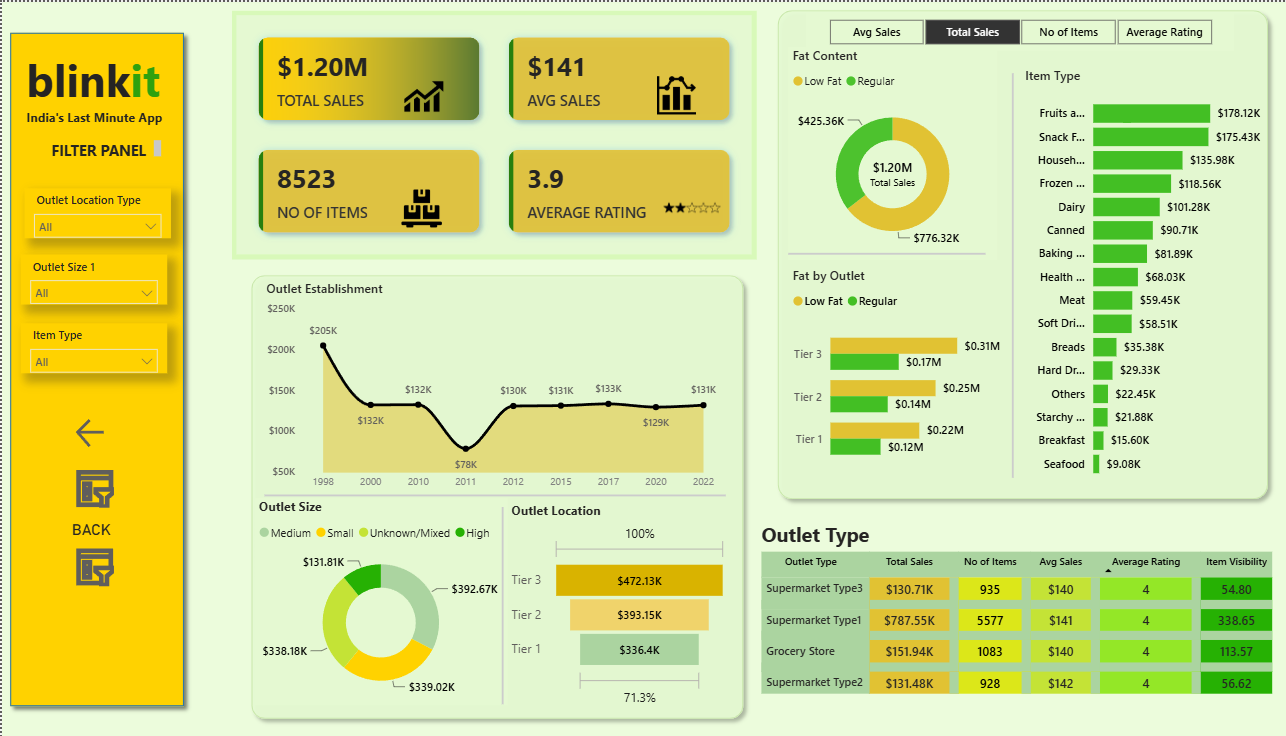

What the dashboard file says about the page in this screenshot:
{"tool":"powerbi","page":{"name":"Page 1","canvas":[1400,800],"ordinal":0},"visuals":[{"type":"shape","box":[0,25,206.7,750],"z":0},{"type":"cardVisual","fields":{"Data":["BlinkIT Grocery Data.Total Sales","BlinkIT Grocery Data.Avg Sales","BlinkIT Grocery Data.No of Items","BlinkIT Grocery Data.Average Rating"]},"box":[250,10,570,270],"z":1000},{"type":"textbox","box":[21.7,46.7,185,100],"z":2000},{"type":"textbox","box":[21.7,111.7,170,35],"z":3000},{"type":"image","box":[430,82,58,42],"z":4000},{"type":"image","box":[712,190,76,66],"z":5000},{"type":"image","box":[402,202,108,44],"z":6000},{"type":"image","box":[712,78,42,48],"z":7000},{"type":"shape","box":[834.5,0,550.8,549.3],"z":8000},{"type":"donutChart","title":"Fat Content","fields":{"Y":["BlinkIT Grocery Data.Total Sales"],"Category":["BlinkIT Grocery Data.Item Fat Content"]},"box":[854.3,48.6,227.1,231.4],"z":9000},{"type":"cardVisual","fields":{"Data":["BlinkIT Grocery Data.Total Sales"]},"box":[907.1,151.4,121.4,71.4],"z":10000},{"type":"slicer","fields":{"Values":["metrics.metrics"]},"box":[874.3,12.8,465.3,40.5],"z":11000},{"type":"clusteredBarChart","title":"Fat by Outlet ","fields":{"Y":["BlinkIT Grocery Data.Total Sales"],"Category":["BlinkIT Grocery Data.Outlet Location Type"],"Series":["BlinkIT Grocery Data.Item Fat Content"]},"box":[854,288.2,235.6,229.6],"z":12000},{"type":"shape","box":[854,267.2,214.6,12],"z":13000},{"type":"shape","box":[1089.6,78,18,439.8],"z":14000},{"type":"barChart","title":"Item Type","fields":{"Y":["BlinkIT Grocery Data.Total Sales"],"Category":["BlinkIT Grocery Data.Item Type"]},"box":[1107.1,70,265.7,457.1],"z":15000},{"type":"shape","box":[262.5,287.5,552.5,500],"z":16000},{"type":"lineChart","title":"Outlet Establishment","fields":{"Y":["BlinkIT Grocery Data.Total Sales"],"Category":["BlinkIT Grocery Data.Outlet Establishment Year"]},"box":[282.9,301.4,505.7,237.1],"z":17000},{"type":"shape","box":[285.7,530,501.4,12.9],"z":18000},{"type":"donutChart","title":"Outlet Size","fields":{"Y":["Sum(BlinkIT Grocery Data.Sales)"],"Category":["BlinkIT Grocery Data.Outlet Size1"]},"box":[275,540,275,225],"z":19000},{"type":"funnel","title":"Outlet Location ","fields":{"Category":["BlinkIT Grocery Data.Outlet Location Type"],"Y":["Sum(BlinkIT Grocery Data.Sales)"]},"box":[549.3,543.3,244.6,228.1],"z":20000},{"type":"shape","box":[706.9,640.9,501.3,12],"z":20001},{"type":"shape","box":[537.3,549.3,15,214.6],"z":20002},{"type":"pivotTable","title":"Outlet Type","fields":{"Rows":["BlinkIT Grocery Data.Outlet Type"],"Values":["BlinkIT Grocery Data.Total Sales","BlinkIT Grocery Data.No of Items","BlinkIT Grocery Data.Avg Sales","BlinkIT Grocery Data.Average Rating","Sum(BlinkIT Grocery Data.Item Visibility)"]},"box":[821,564.3,579.3,223.6],"z":20003},{"type":"slicer","fields":{"Values":["BlinkIT Grocery Data.Outlet Location Type"]},"box":[24,202.6,159.1,54],"z":20004},{"type":"slicer","fields":{"Values":["BlinkIT Grocery Data.Outlet Size"]},"box":[21,274.7,159.1,54],"z":20007},{"type":"slicer","fields":{"Values":["BlinkIT Grocery Data.Item Type"]},"box":[21,349.7,159.1,54],"z":20008},{"type":"textbox","box":[38.9,145.2,138.8,29.5],"z":20010},{"type":"actionButton","box":[76.5,504.3,54,49.5],"z":20012},{"type":"actionButton","title":"BACK","box":[76.5,564.3,84,75],"z":20013},{"type":"actionButton","box":[76.5,448.8,100.6,40.5],"z":20014}]}

Visuals, with their boxes in screenshot pixels (x1, y1, x2, y2), scaled from the page's 1400x800 canvas onto the 1286x736 screenshot:
shape: [left=0, top=23, right=190, bottom=713]
cardVisual - BlinkIT Grocery Data.Total Sales x BlinkIT Grocery Data.Avg Sales: [left=230, top=9, right=753, bottom=258]
textbox: [left=20, top=43, right=190, bottom=135]
textbox: [left=20, top=103, right=176, bottom=135]
image: [left=395, top=75, right=448, bottom=114]
image: [left=654, top=175, right=724, bottom=236]
image: [left=369, top=186, right=468, bottom=226]
image: [left=654, top=72, right=693, bottom=116]
shape: [left=767, top=0, right=1272, bottom=505]
"Fat Content" donutChart: [left=785, top=45, right=993, bottom=258]
cardVisual - BlinkIT Grocery Data.Total Sales: [left=833, top=139, right=945, bottom=205]
slicer - metrics.metrics: [left=803, top=12, right=1231, bottom=49]
"Fat by Outlet " clusteredBarChart: [left=784, top=265, right=1001, bottom=476]
shape: [left=784, top=246, right=982, bottom=257]
shape: [left=1001, top=72, right=1017, bottom=476]
"Item Type" barChart: [left=1017, top=64, right=1261, bottom=485]
shape: [left=241, top=264, right=749, bottom=724]
"Outlet Establishment" lineChart: [left=260, top=277, right=724, bottom=495]
shape: [left=262, top=488, right=723, bottom=499]
"Outlet Size" donutChart: [left=253, top=497, right=505, bottom=704]
"Outlet Location " funnel: [left=505, top=500, right=729, bottom=710]
shape: [left=649, top=590, right=1110, bottom=601]
shape: [left=494, top=505, right=507, bottom=703]
"Outlet Type" pivotTable: [left=754, top=519, right=1285, bottom=725]
slicer - BlinkIT Grocery Data.Outlet Location Type: [left=22, top=186, right=168, bottom=236]
slicer - BlinkIT Grocery Data.Outlet Size: [left=19, top=253, right=165, bottom=302]
slicer - BlinkIT Grocery Data.Item Type: [left=19, top=322, right=165, bottom=371]
textbox: [left=36, top=134, right=163, bottom=161]
actionButton: [left=70, top=464, right=120, bottom=509]
"BACK" actionButton: [left=70, top=519, right=147, bottom=588]
actionButton: [left=70, top=413, right=163, bottom=450]
